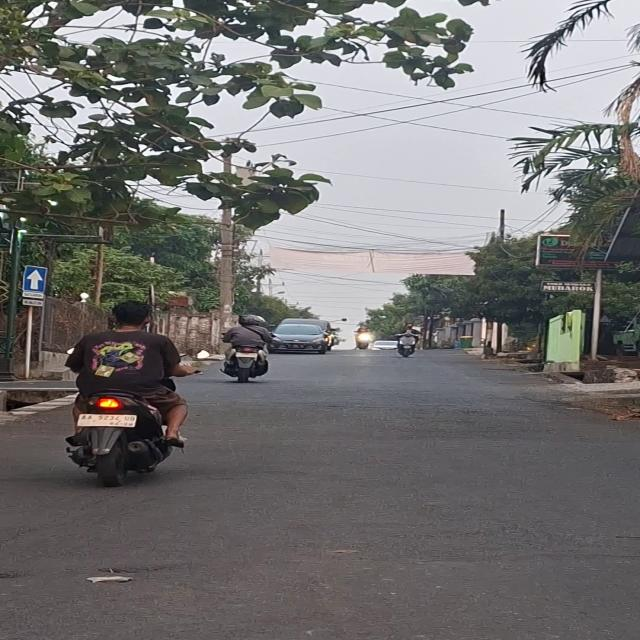WithHelmet: (221, 314, 278, 377), (394, 323, 425, 352), (353, 324, 375, 345)
WithoutHelmet: (68, 303, 191, 489)
